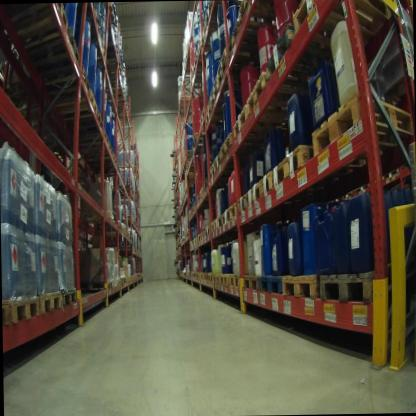pallet: (307, 88, 413, 165), (262, 16, 373, 84), (291, 0, 395, 71), (243, 63, 319, 126), (9, 25, 80, 79), (320, 264, 393, 316), (0, 4, 69, 59), (231, 101, 295, 149), (274, 145, 318, 192), (40, 63, 91, 102), (224, 20, 269, 56), (243, 264, 284, 302), (280, 267, 322, 304), (57, 88, 98, 124), (2, 293, 42, 329), (210, 45, 242, 81), (245, 167, 273, 204), (71, 126, 110, 150), (66, 108, 104, 132), (209, 81, 240, 110), (218, 59, 251, 86), (34, 286, 63, 316), (233, 0, 280, 17), (75, 209, 116, 227), (201, 21, 224, 53), (78, 143, 114, 163), (206, 2, 228, 31), (219, 127, 236, 163), (233, 189, 250, 219), (205, 104, 228, 126), (205, 68, 221, 99), (90, 156, 119, 173), (60, 288, 81, 311), (187, 70, 208, 93), (83, 277, 113, 293), (100, 56, 124, 76), (109, 182, 136, 198), (91, 220, 123, 233), (176, 94, 198, 111), (228, 196, 239, 227), (190, 134, 211, 150), (95, 36, 108, 61), (228, 268, 243, 289), (92, 10, 102, 38), (111, 243, 135, 254), (198, 180, 210, 202), (119, 211, 136, 226), (106, 2, 116, 27), (218, 211, 230, 231), (195, 103, 205, 126), (209, 218, 220, 238), (186, 158, 199, 174), (207, 155, 218, 173), (202, 225, 212, 243), (207, 167, 217, 185), (196, 185, 205, 204), (202, 96, 211, 115), (214, 151, 222, 172), (194, 37, 202, 57), (192, 54, 200, 73), (88, 5, 96, 23), (179, 160, 187, 178), (219, 272, 229, 286), (182, 151, 192, 165), (206, 269, 214, 285), (183, 187, 193, 198), (213, 271, 220, 285), (197, 230, 204, 244), (203, 266, 208, 283), (199, 269, 204, 282), (193, 234, 198, 247), (191, 270, 196, 281), (118, 274, 123, 285), (193, 198, 197, 211), (191, 235, 195, 247), (189, 237, 193, 247), (123, 276, 127, 286), (191, 203, 195, 213), (185, 231, 190, 239), (188, 208, 191, 219), (196, 269, 199, 279)
